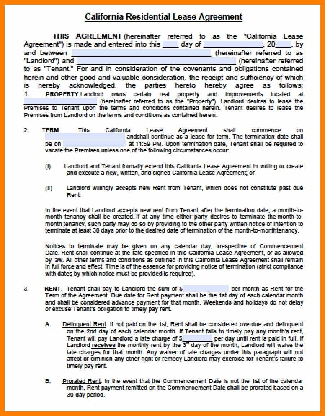textline: (70, 49, 214, 60), (76, 58, 239, 67), (43, 133, 126, 143), (22, 97, 98, 107), (202, 39, 264, 50), (63, 141, 128, 148), (183, 285, 232, 293), (182, 334, 213, 344), (273, 40, 291, 49), (161, 40, 178, 49)
